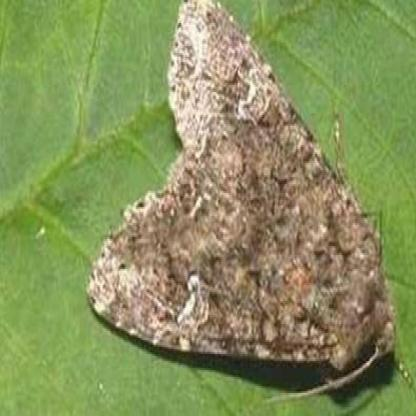armyworm: (87, 0, 412, 408)
